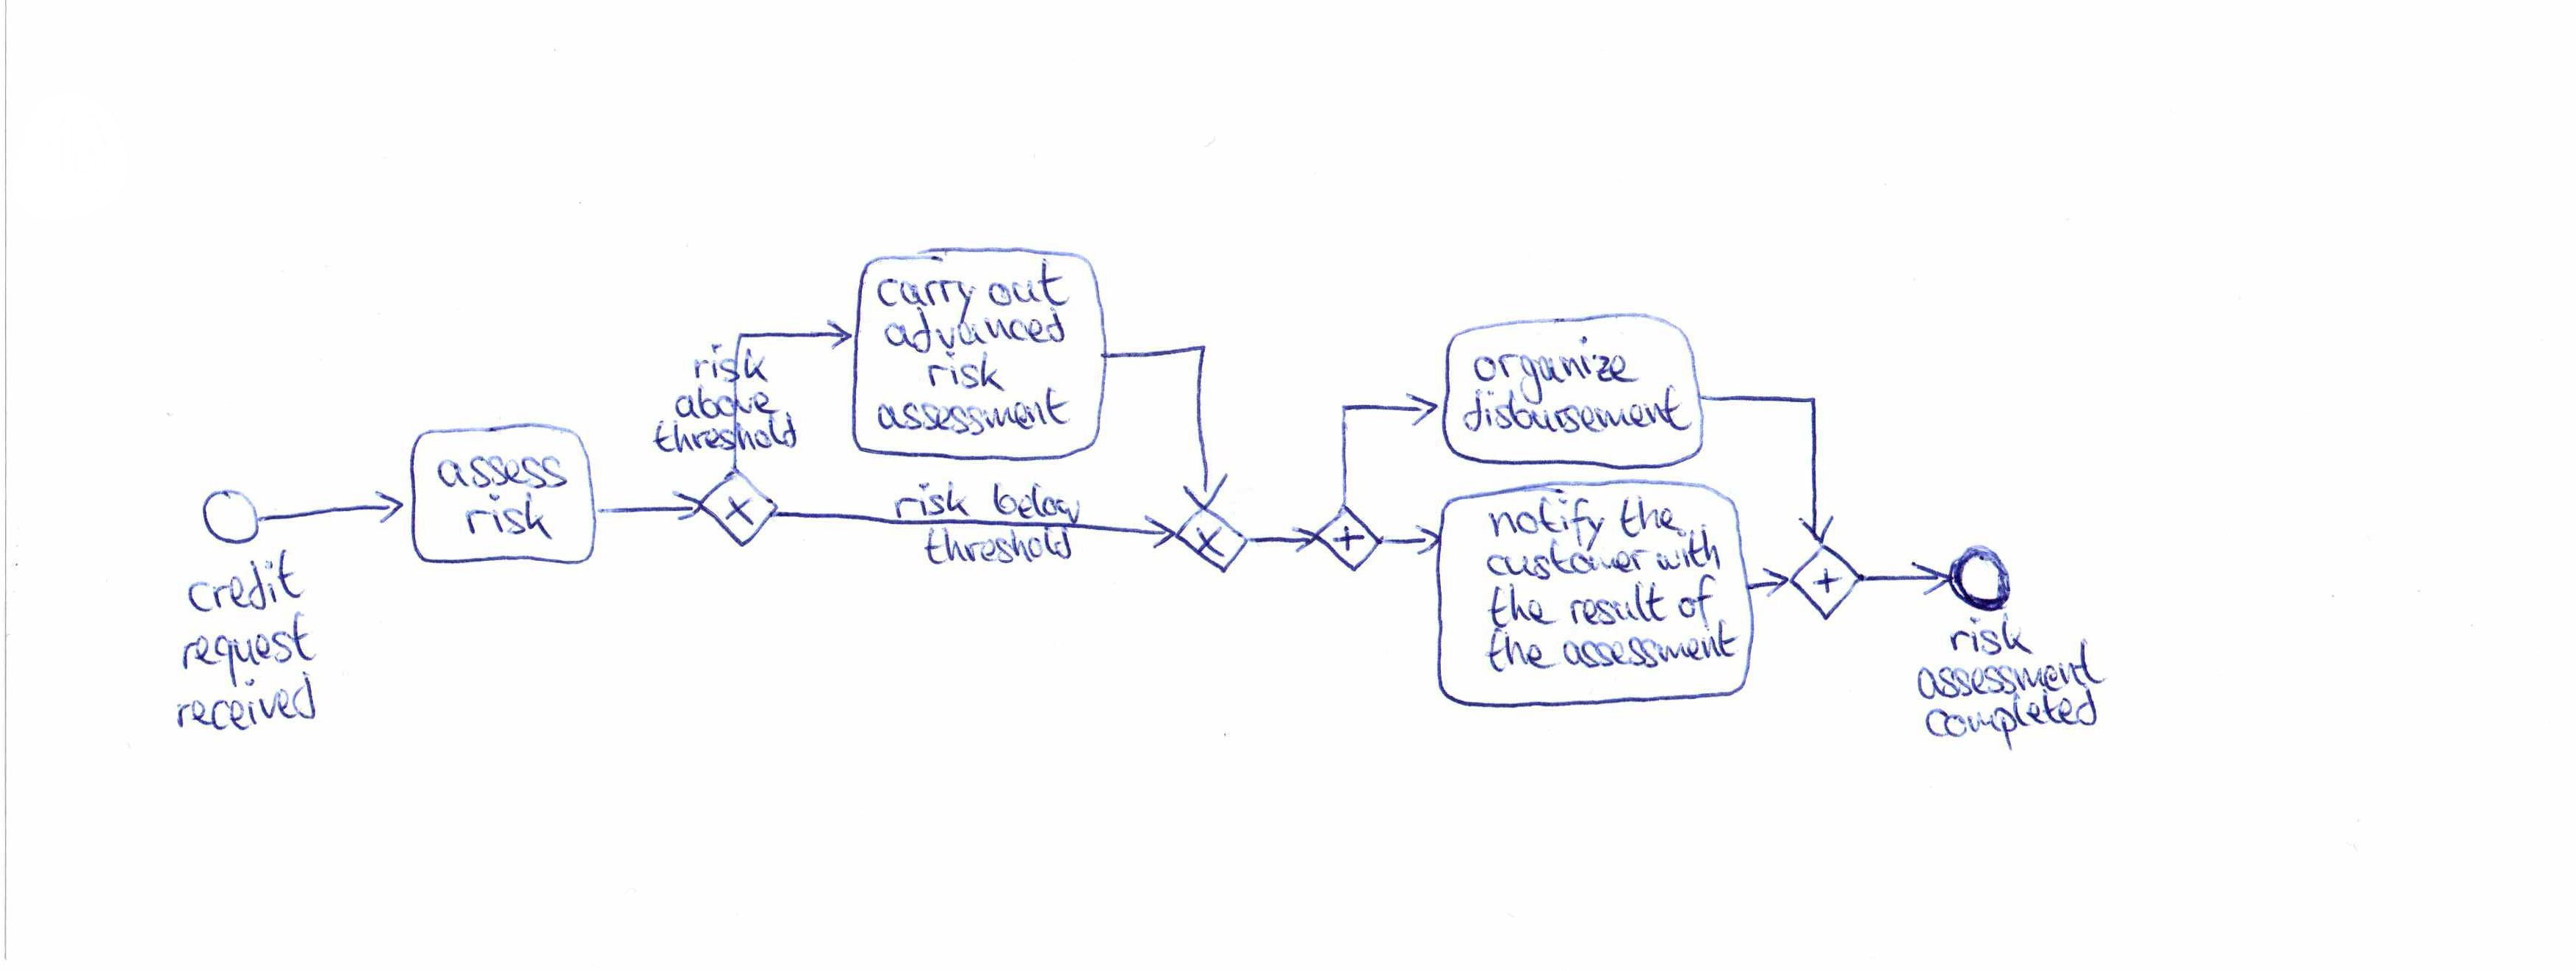above: (672, 383, 784, 422)
advanced: (882, 304, 1068, 357)
assess: (435, 450, 570, 493)
assessment: (1914, 637, 2109, 703), (874, 384, 1073, 440), (1559, 616, 1741, 674)
below: (989, 478, 1083, 526)
carry: (872, 273, 981, 329)
completed: (1922, 685, 2101, 752)
credit: (184, 545, 307, 616)
customer: (1483, 536, 1653, 583)
disbursement: (1460, 383, 1695, 437)
notify: (1483, 493, 1610, 554)
of: (1674, 570, 1720, 634)
organize: (1470, 334, 1643, 407)
out: (984, 255, 1073, 309)
received: (172, 669, 319, 734)
request: (179, 608, 320, 692)
result: (1567, 580, 1669, 629)
risk: (460, 490, 555, 544), (1945, 610, 2037, 659), (923, 348, 1009, 394), (690, 342, 772, 386), (890, 480, 974, 519)
the: (1483, 626, 1562, 677), (1485, 580, 1562, 629), (1615, 493, 1686, 541)
threshold: (649, 409, 800, 455), (922, 524, 1074, 568)
with: (1653, 522, 1723, 573)
